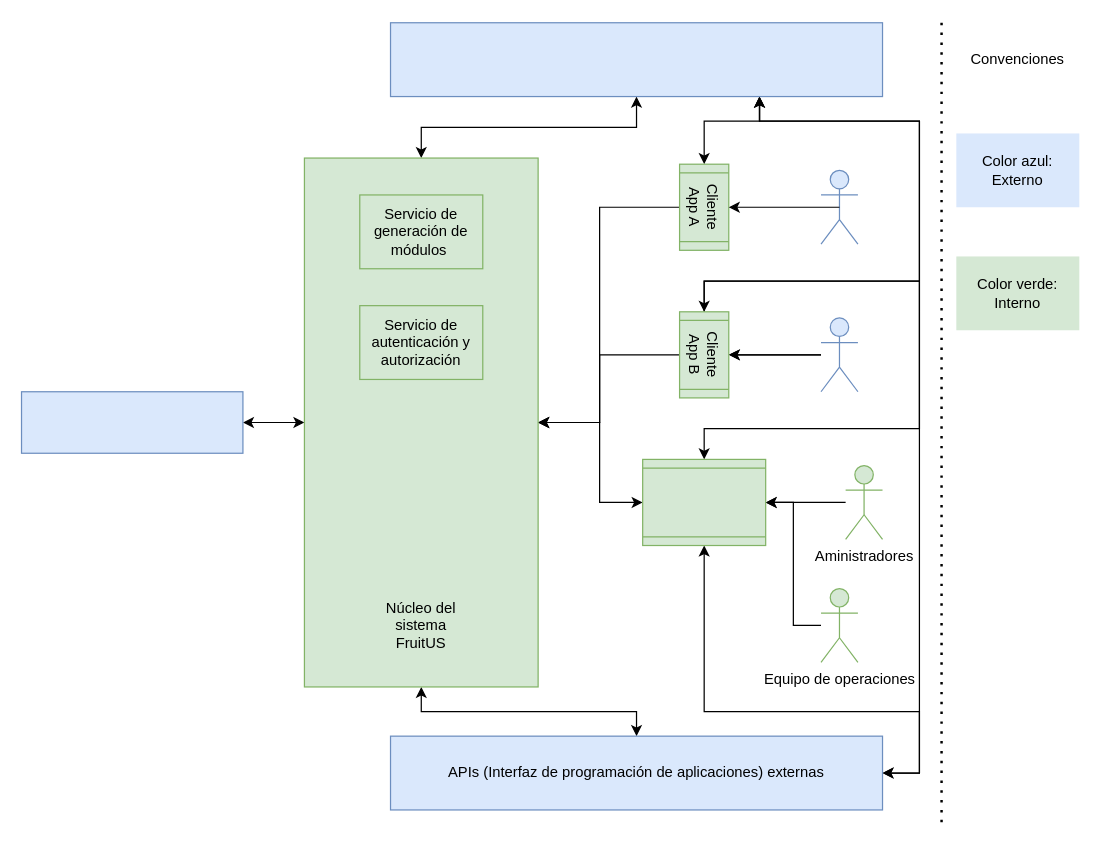
The diagram is 1101 pixels wide and 845 high, and some of its shapes have lost their labels. The centre of each missing label's shape, as x and y in pixels:
Back office: [703,502]
Cliente A: [839,206]
Cliente B: [839,354]
Servicio de autenticación Auth0: [131,422]
Servicios de la nube: [636,59]
